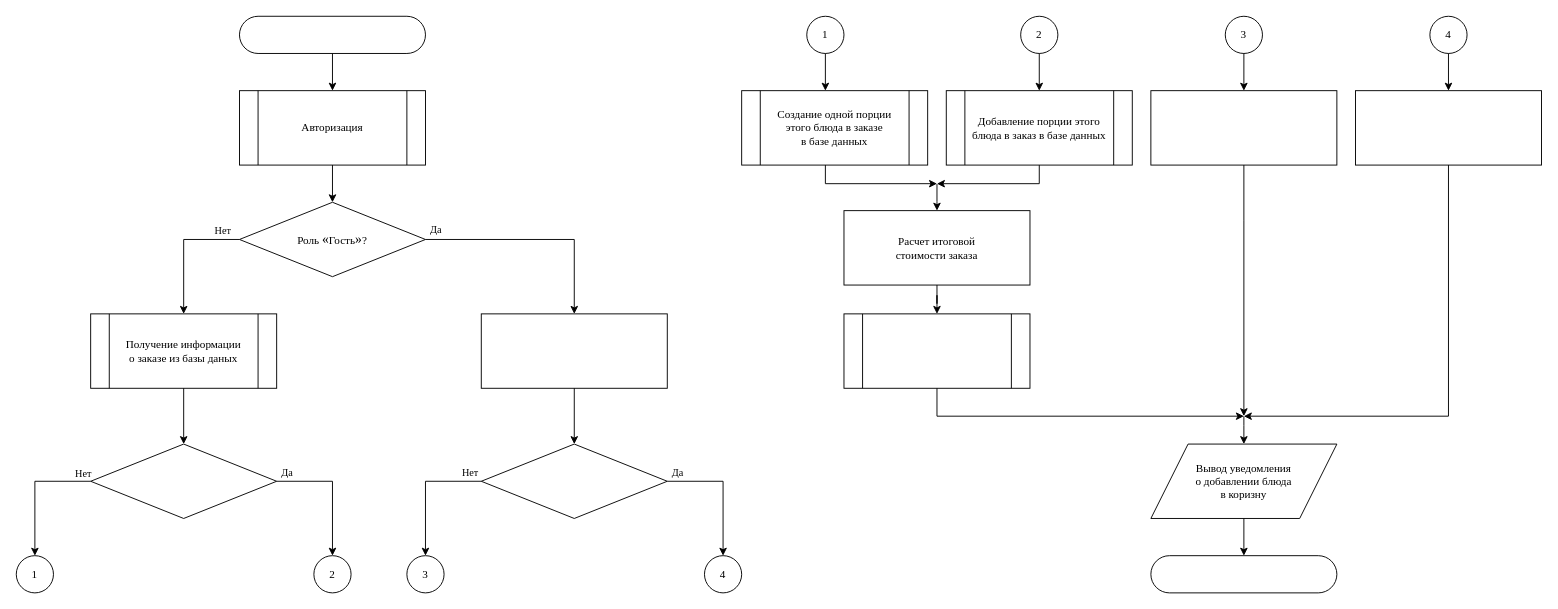
This 1558x609 diagram has some shape labels left out. Here are the shapes that lost their labels. From the top down, the box of each, then its label:
(239, 15, 425, 53): Начало
(1150, 90, 1337, 165): Создание одной порции этого блюда в корзине
(1355, 90, 1541, 165): Добавление порции этого блюда в корзину
(480, 313, 667, 388): Получение данных о порциях блюд из корзины
(843, 313, 1030, 388): Сохранение обновленного заказа в базе данных
(90, 443, 277, 518): Заказ содежит добавляемое блюдо?
(480, 443, 667, 518): Корзина содежит добавляемое блюдо?
(1150, 555, 1337, 593): Конец
